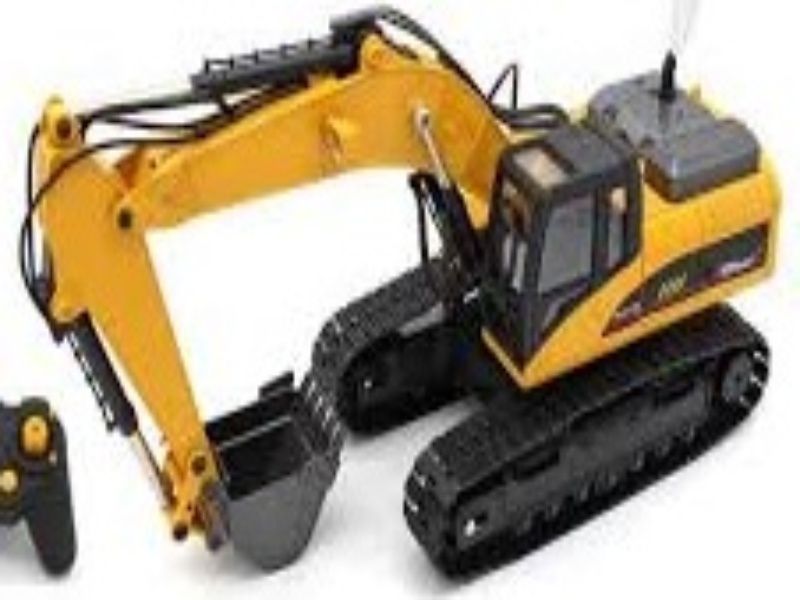wajueji: (28, 14, 774, 583)
